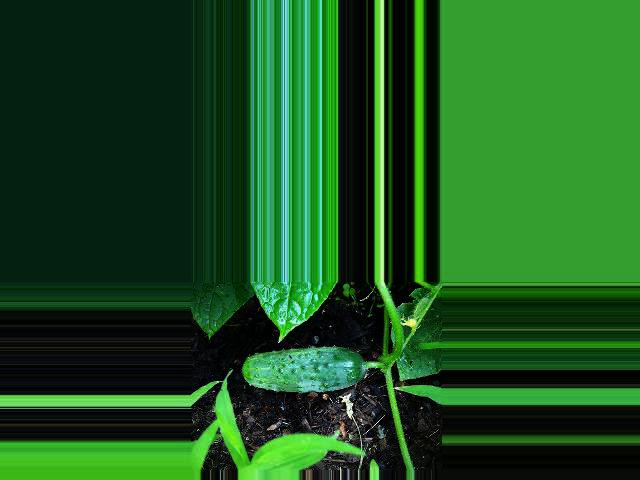cucumber: (240, 346, 366, 393)
